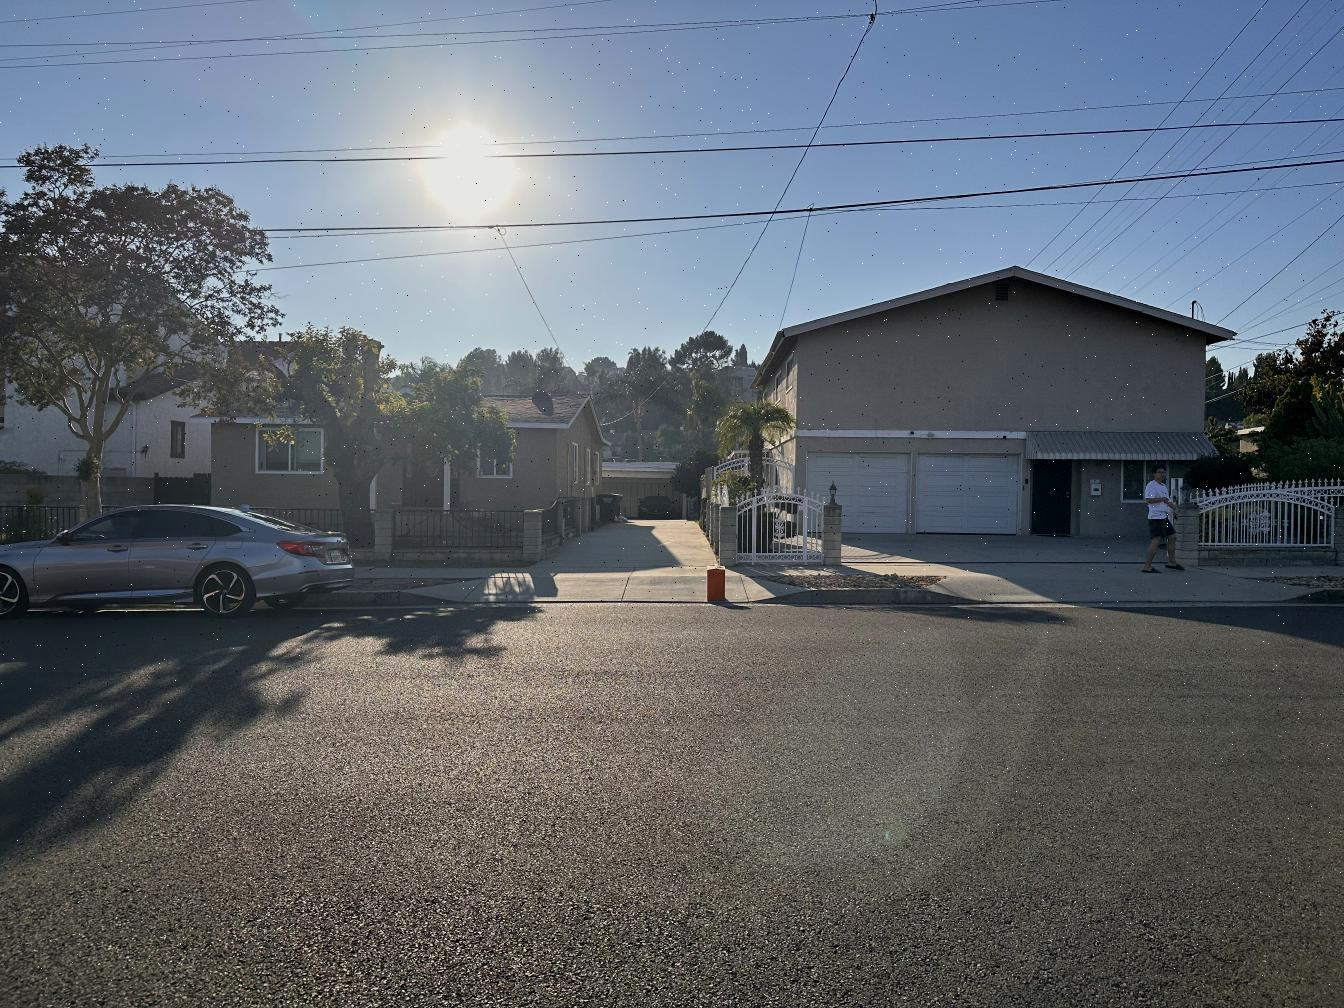curbs-laRr: (811, 587, 900, 607)
orange box: (707, 566, 727, 600)
